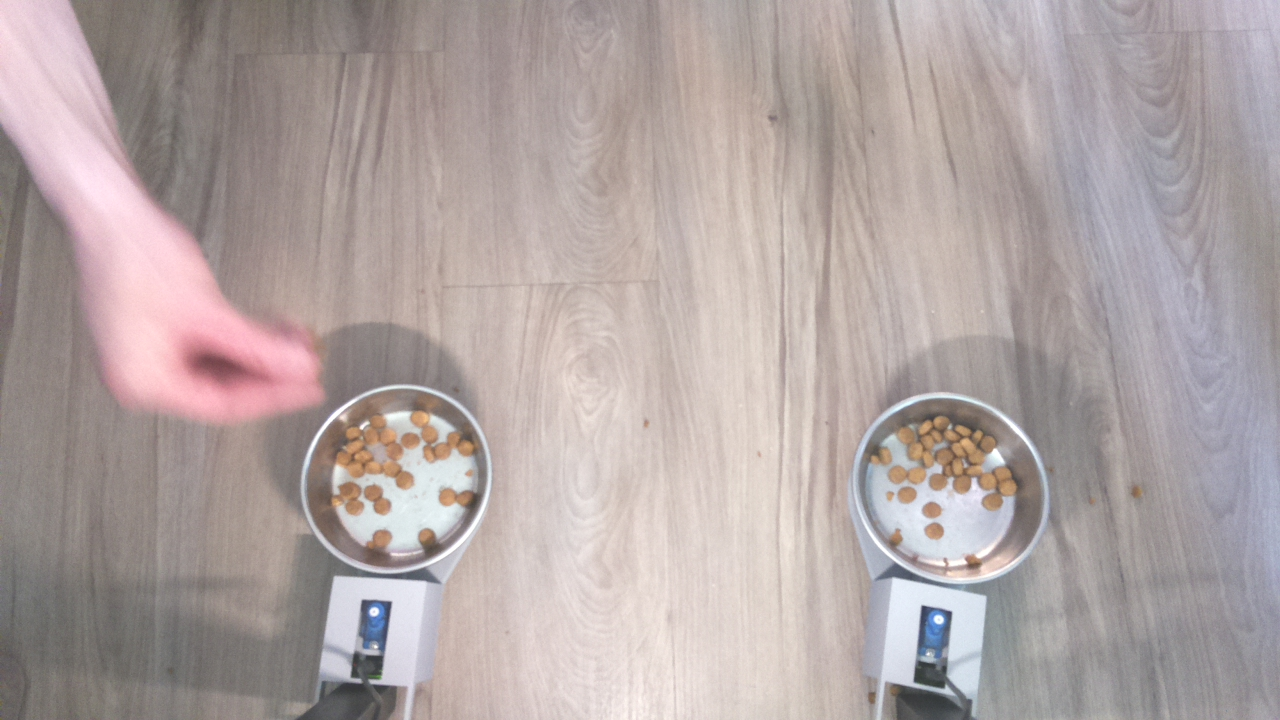open_bowl: (848, 390, 1052, 590), (300, 382, 491, 578)
